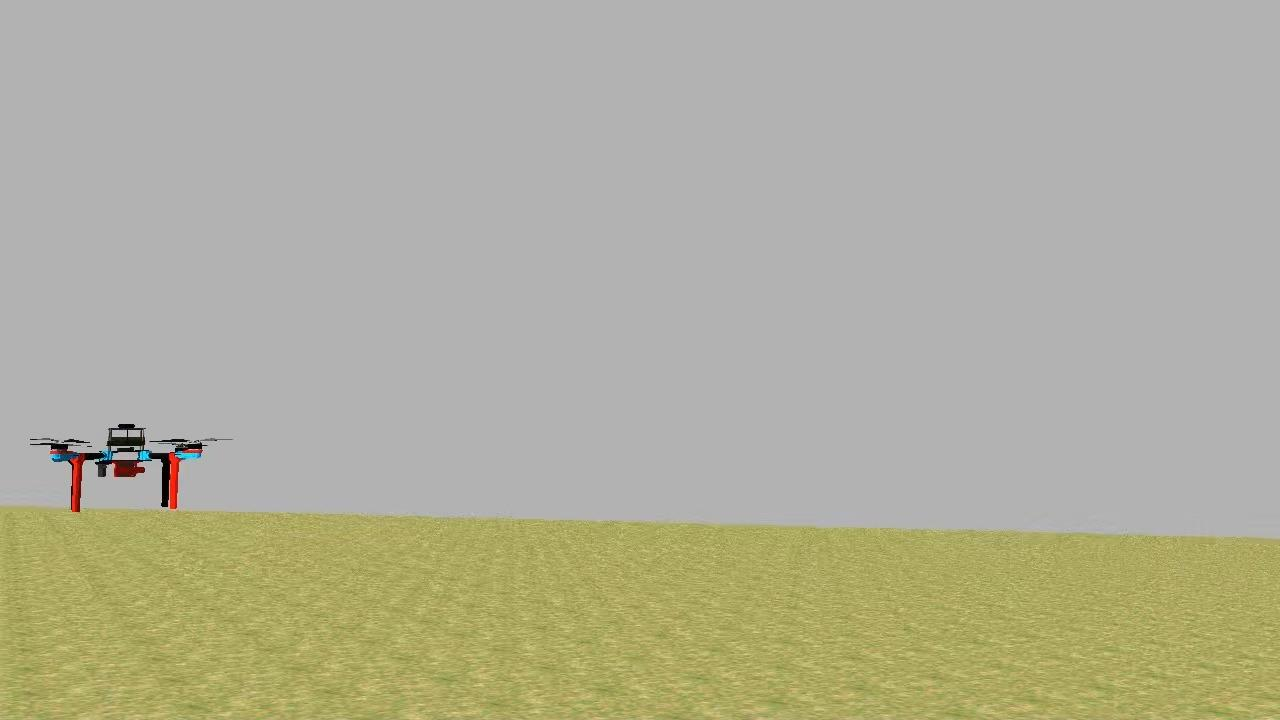UAV: (37, 417, 209, 520)
